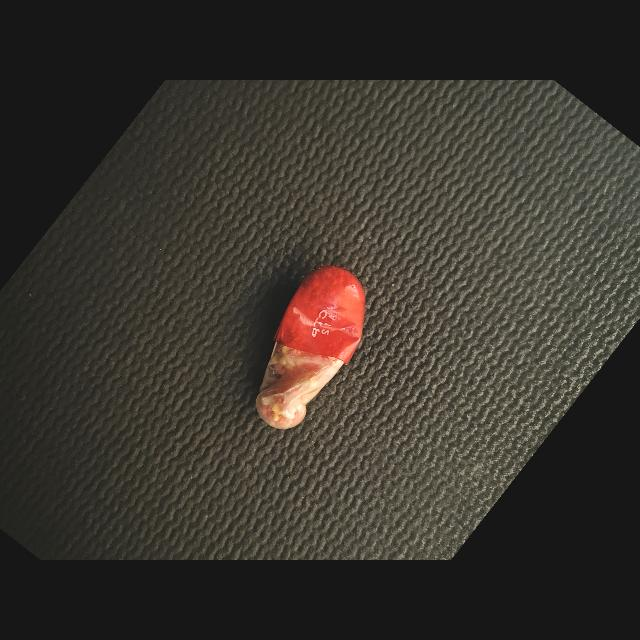Defective Capsule: (256, 267, 366, 429)
